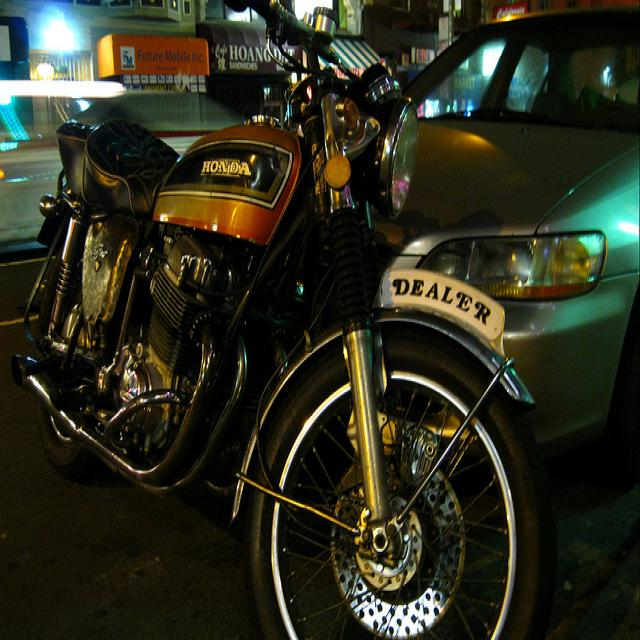motor: (16, 1, 544, 631)
